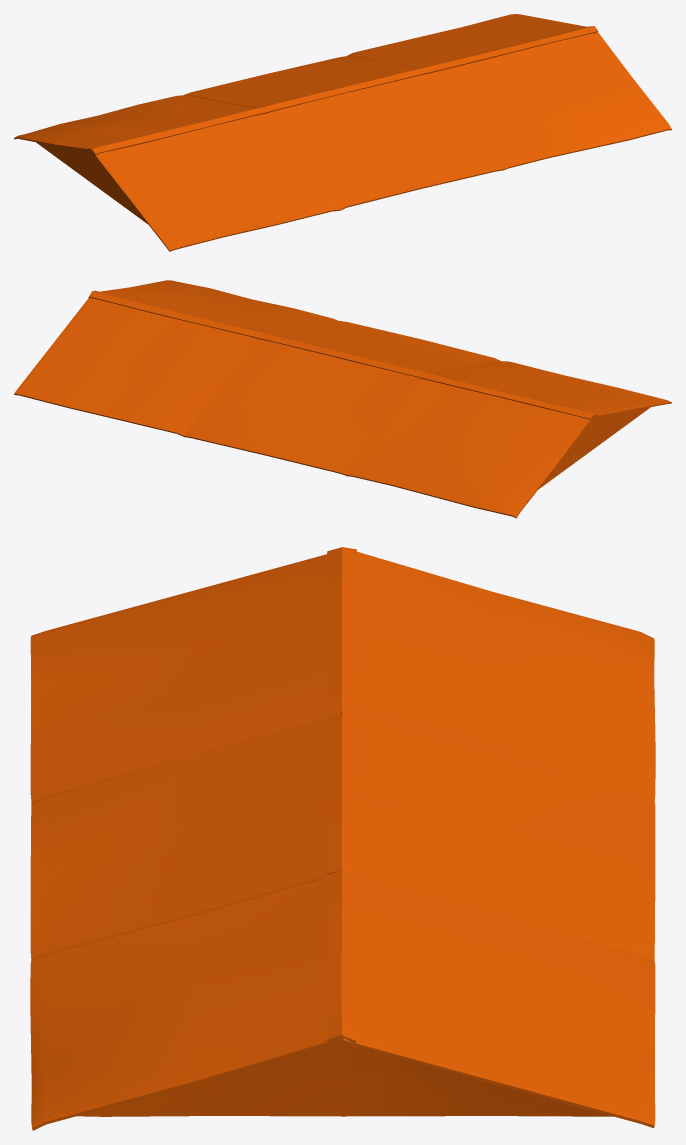
File: GRoof.fbx
3 renders of one model, top to bottom at view 1: azimuth 30°, elevation 25°; view 2: azimuth 150°, elevation 25°; view 3: azimuth 270°, elevation 25°, orthographic. The views are drawn at different scales.
Visible parts, largest first — view 1: Cube.008; view 2: Cube.008; view 3: Cube.008.
Part boxes in pixels (x1=…): Cube.008: x1=14, y1=14, x2=671, y2=251; Cube.008: x1=14, y1=280, x2=671, y2=518; Cube.008: x1=30, y1=547, x2=655, y2=1130.
Bounding box in the file's own units: 1140 × 104 × 615.
